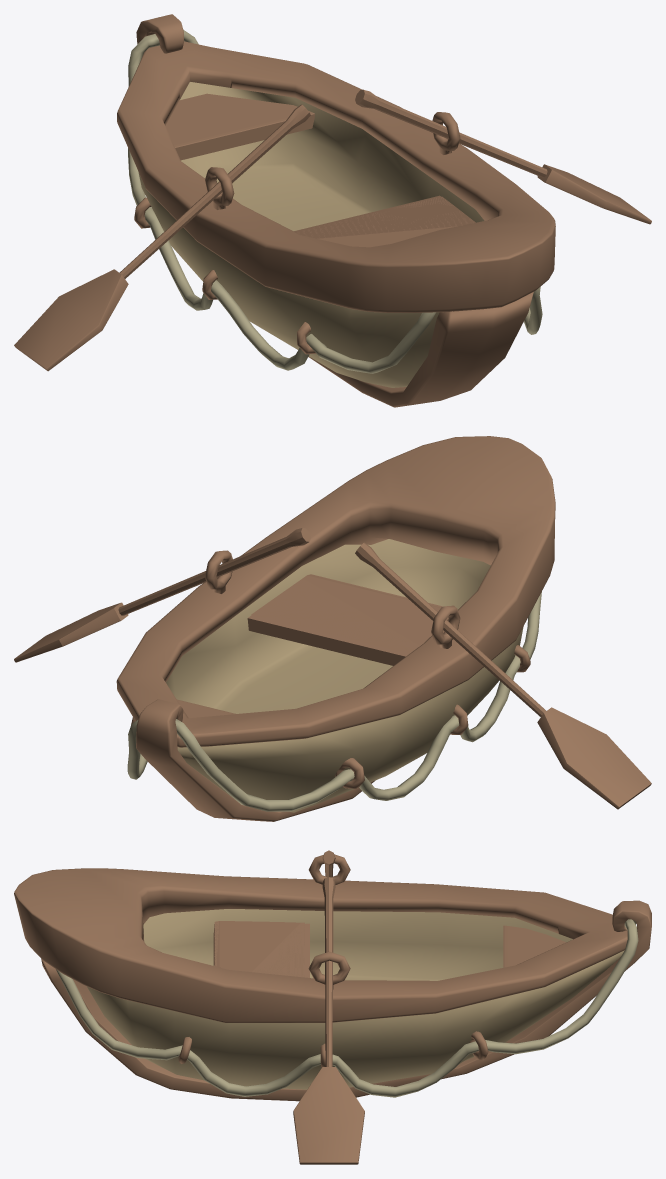
File: GhostShip.fbx
3 renders of one model, top to bottom at view 1: azimuth 30°, elevation 25°; view 2: azimuth 150°, elevation 25°; view 3: azimuth 270°, elevation 25°, orthographic. The views are drawn at different scales.
Visible parts, largest first — view 1: Cube; view 2: Cube; view 3: Cube.
Part boxes in pixels (x1,y1,x2,y2): Cube: [14, 14, 651, 407]; Cube: [14, 436, 651, 821]; Cube: [14, 850, 651, 1164].
Bounding box in the file's own units: 1482 × 609 × 1509.
